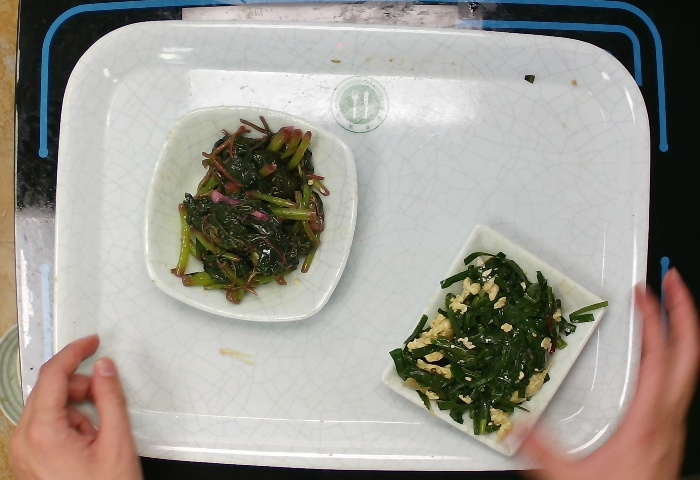WCQzf-Da_Si_Fang_Die: (140, 98, 365, 328)
WCQzf-Ru_Ci_Si_Fang_Die: (376, 219, 608, 457)
